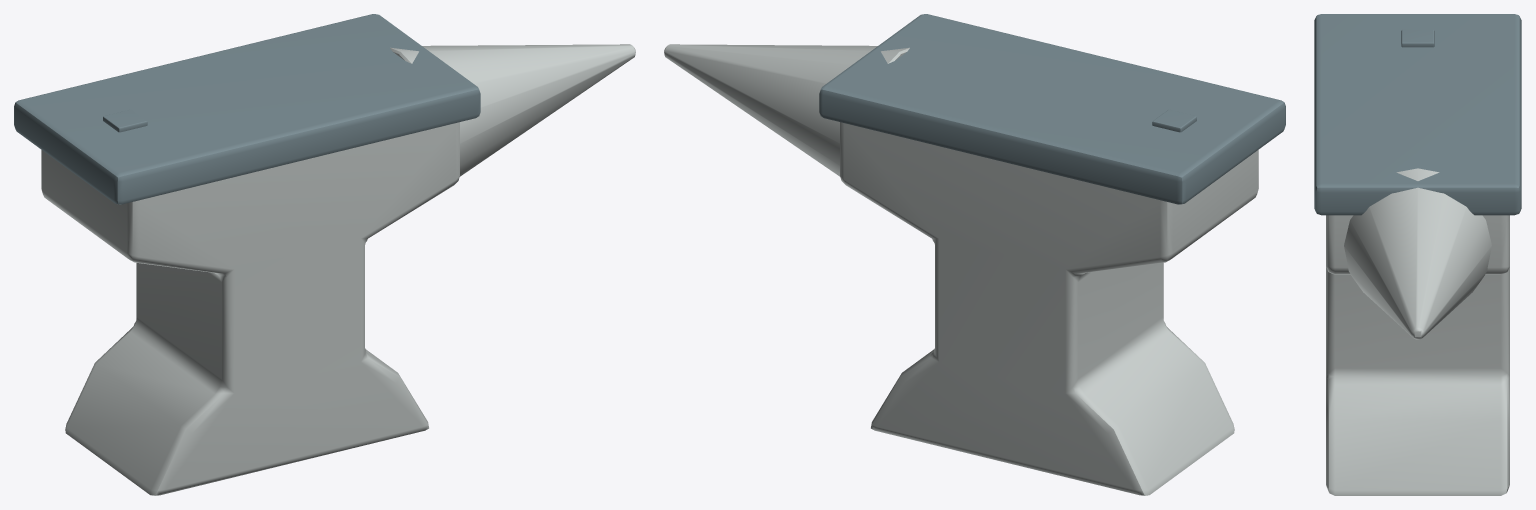
The model's file is anvil.glb.
3 views of the same model, side by side, from view 1: azimuth 30°, elevation 25°; view 2: azimuth 150°, elevation 25°; view 3: azimuth 270°, elevation 25° (orthographic).
Visible parts, largest first — view 1: anvil_body, forging_face, horn, hardy_hole; view 2: anvil_body, forging_face, horn, hardy_hole; view 3: forging_face, anvil_body, horn, hardy_hole.
Part boxes in pixels (x1,y1,x2,y2): anvil_body: (41, 122, 459, 495); forging_face: (14, 14, 480, 204); horn: (390, 44, 635, 176); hardy_hole: (103, 109, 147, 132); anvil_body: (840, 122, 1258, 495); forging_face: (819, 14, 1285, 204); horn: (664, 44, 909, 176); hardy_hole: (1152, 109, 1196, 132); forging_face: (1314, 14, 1521, 215); anvil_body: (1326, 215, 1509, 495); horn: (1344, 168, 1491, 339); hardy_hole: (1401, 29, 1434, 47).
Size of the model in its own units: 0.8403 by 0.484 by 0.27.
